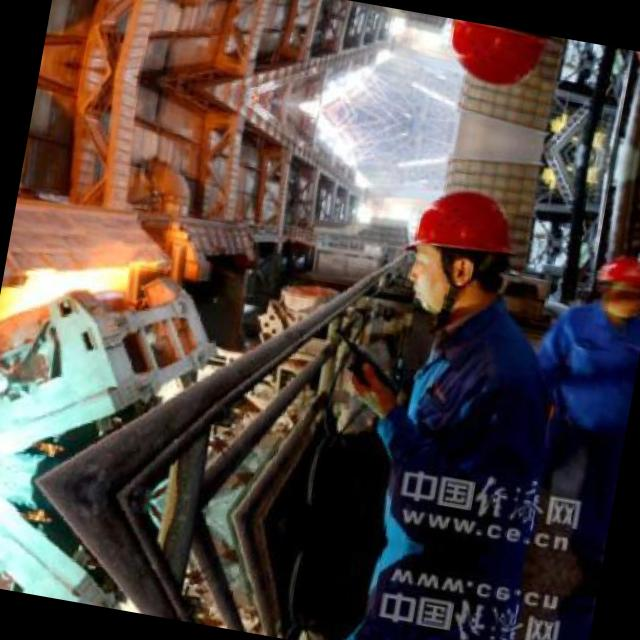helmet: (392, 168, 528, 324), (431, 17, 556, 104), (591, 250, 640, 318)
